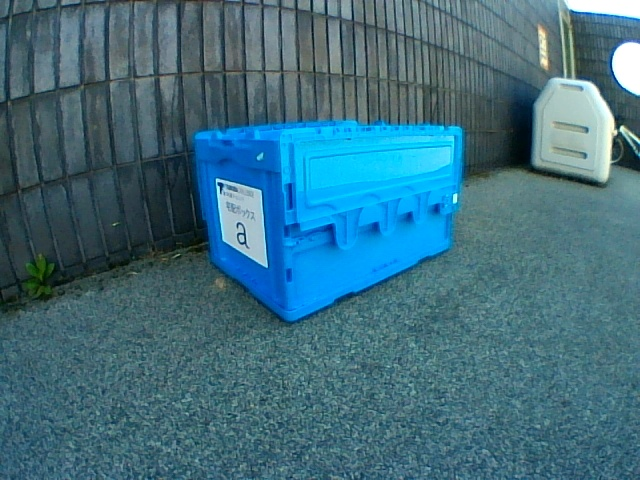blue_box: (195, 120, 464, 322)
tag_a: (234, 203, 258, 248)
